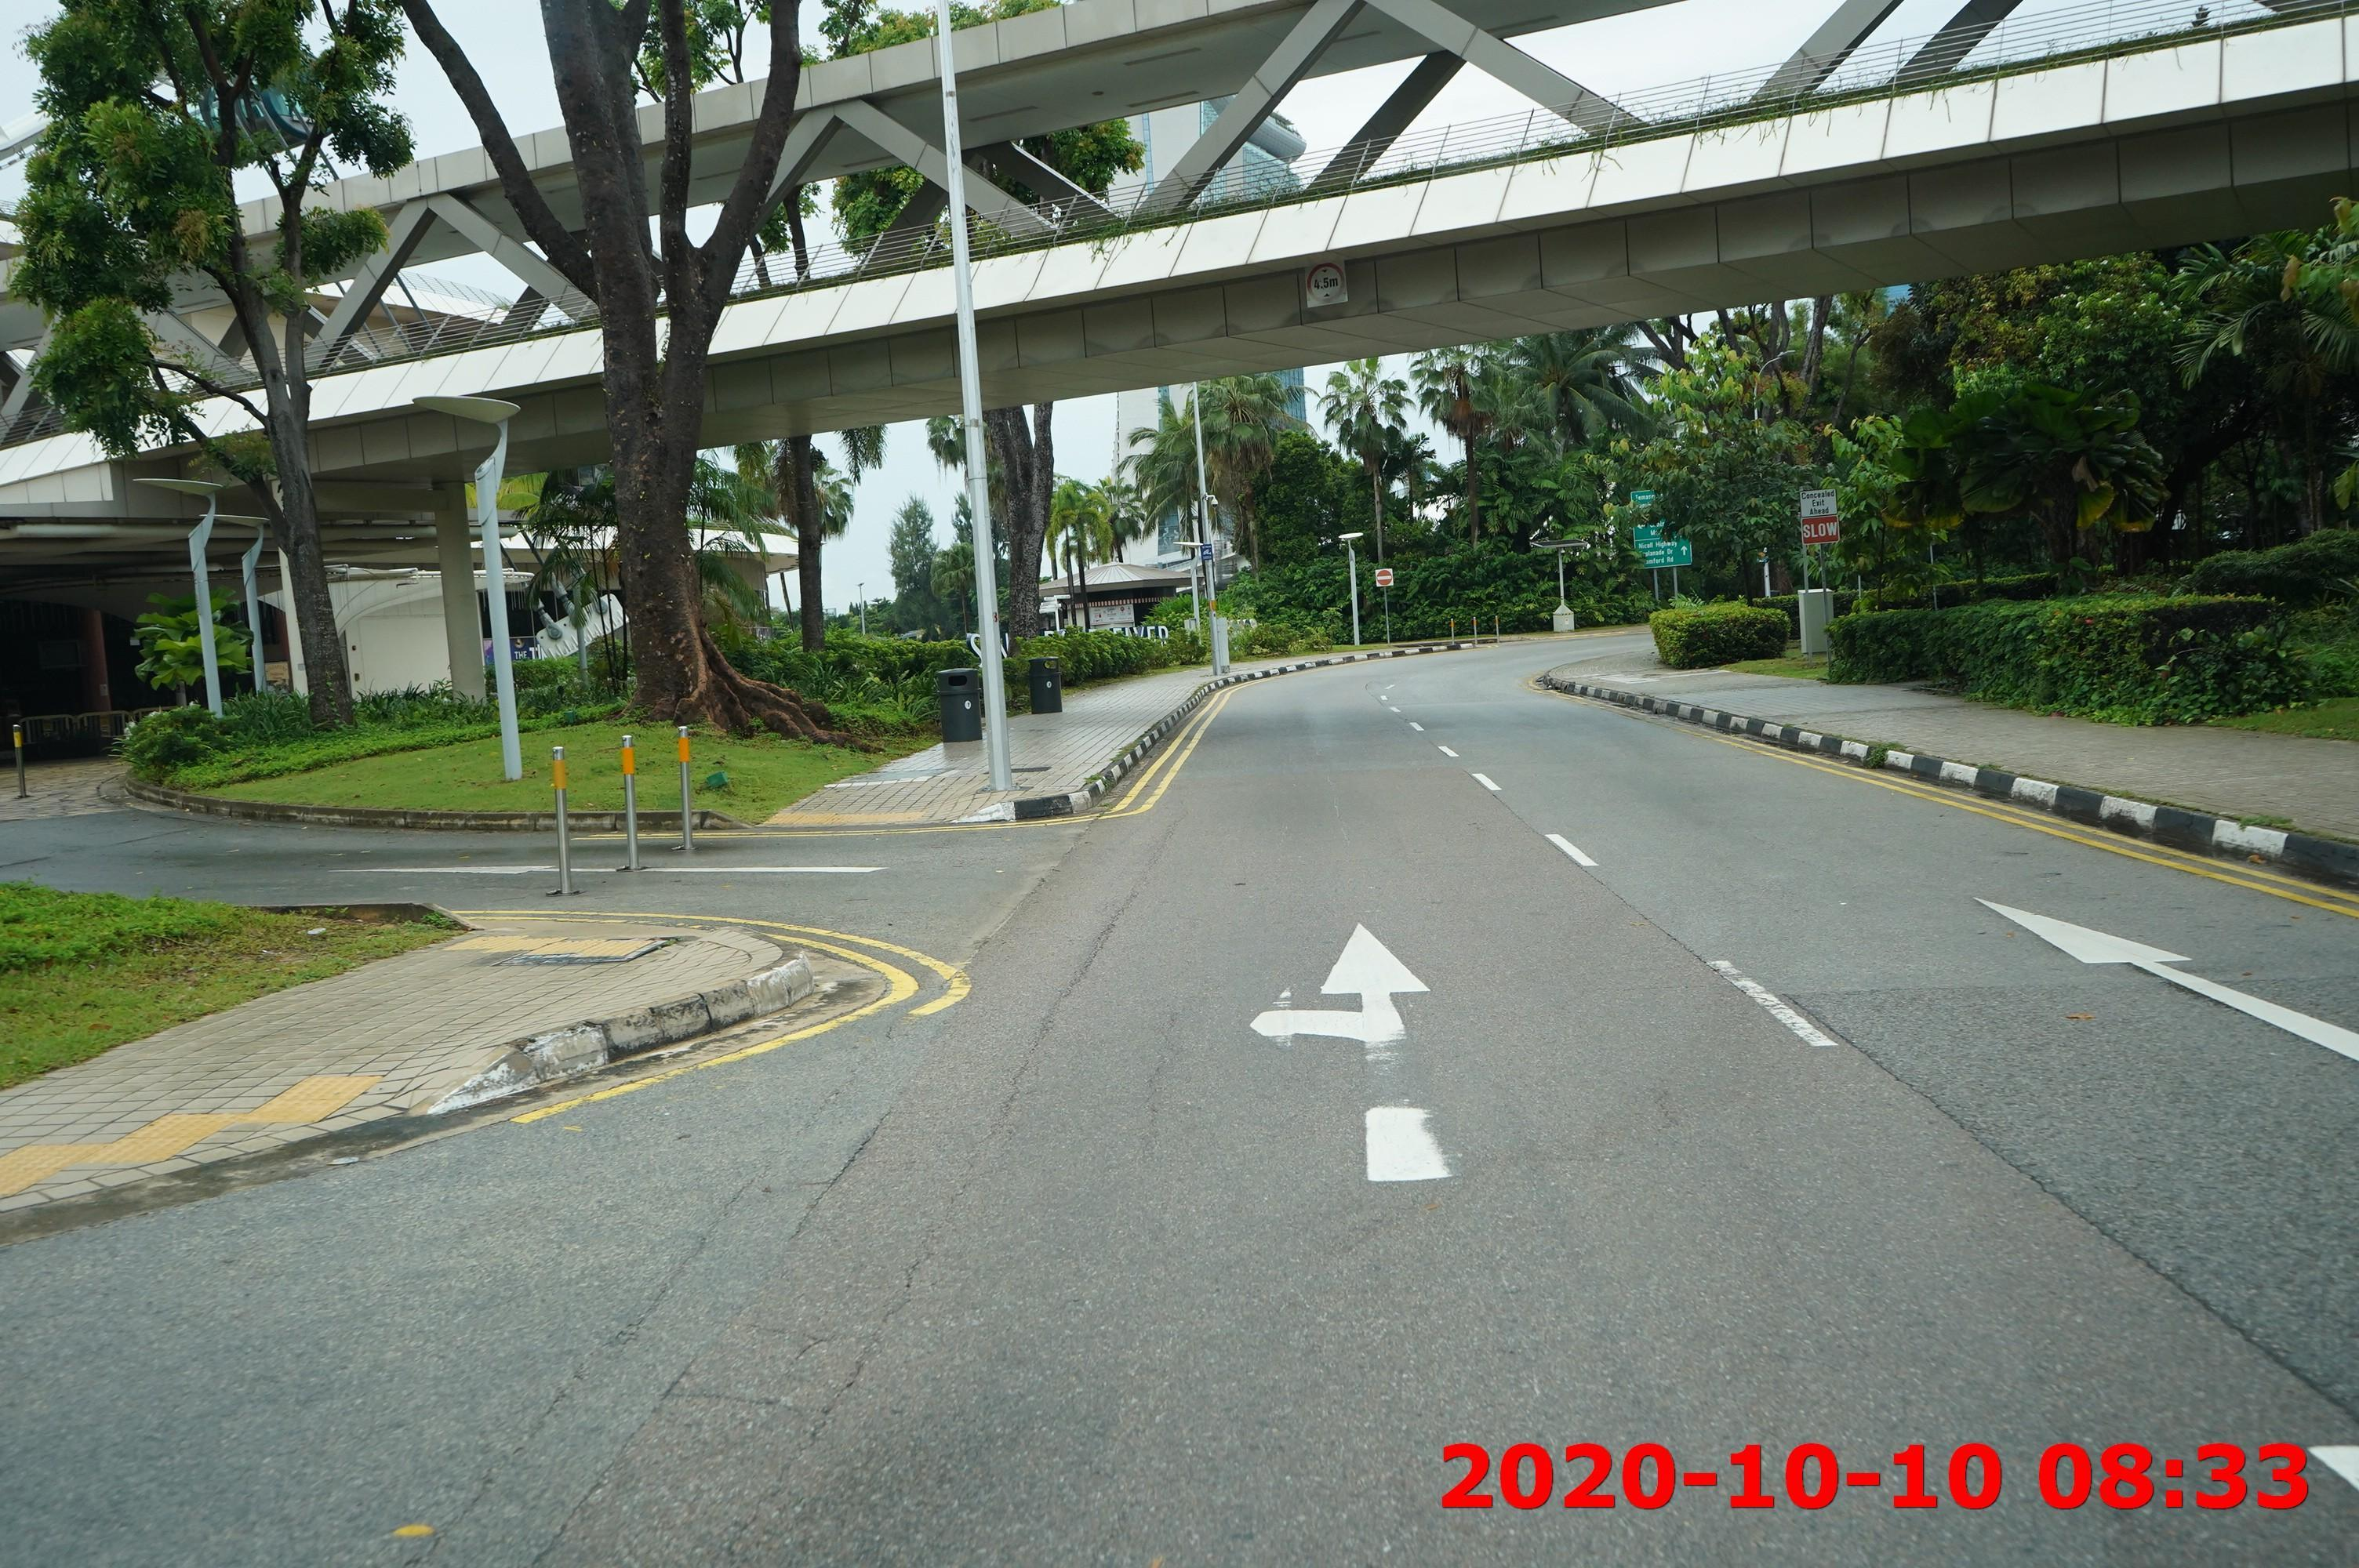single crack: (798, 801, 1200, 1414)
